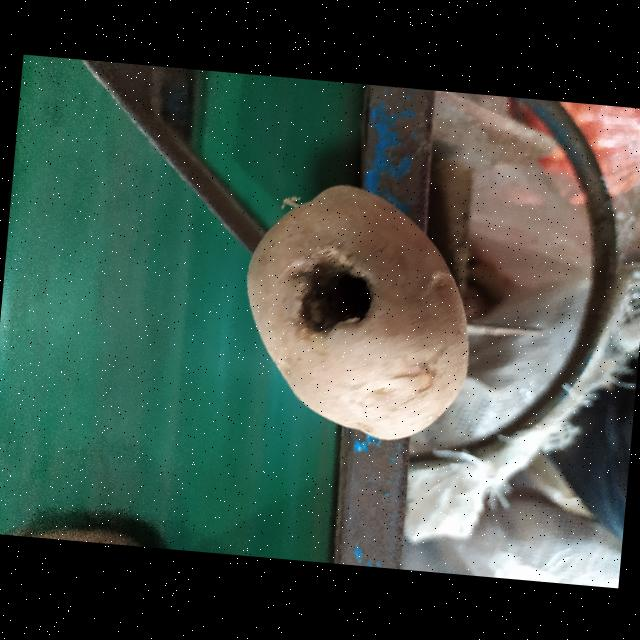Diseased-fungal potato: (86, 52, 382, 334)
